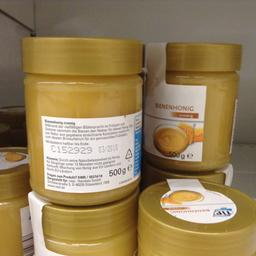honey: (17, 34, 145, 204), (143, 41, 246, 177)
